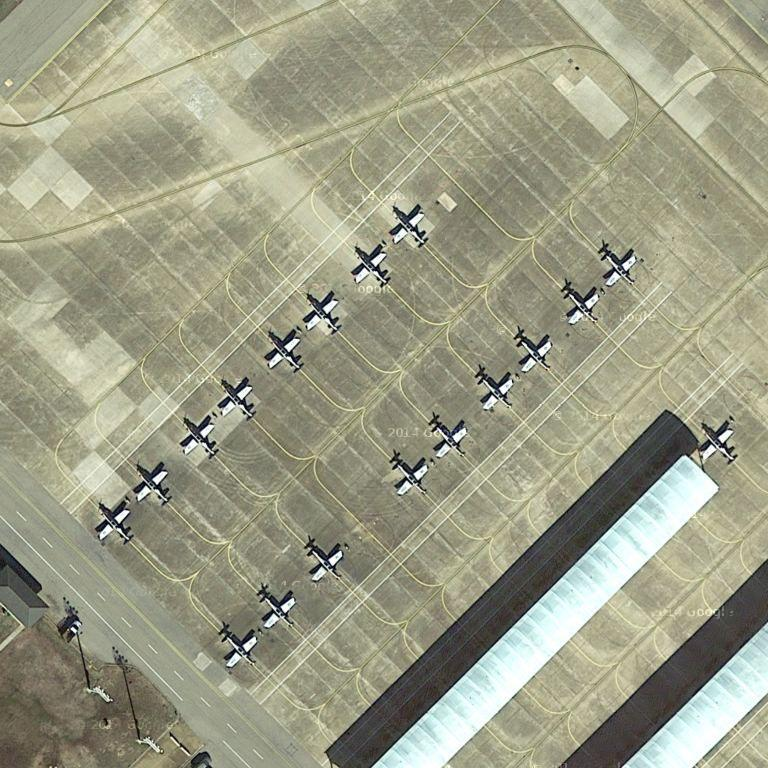plane: (301, 540, 347, 586), (263, 328, 307, 376), (698, 420, 741, 468), (351, 246, 396, 291), (303, 291, 346, 338), (559, 283, 606, 326), (216, 379, 261, 423), (472, 368, 517, 412), (133, 465, 176, 510), (389, 208, 433, 251), (255, 588, 299, 631), (94, 502, 136, 547), (596, 245, 641, 287), (180, 416, 222, 460), (217, 626, 259, 670), (512, 331, 555, 373), (427, 416, 470, 458), (388, 457, 432, 497)
